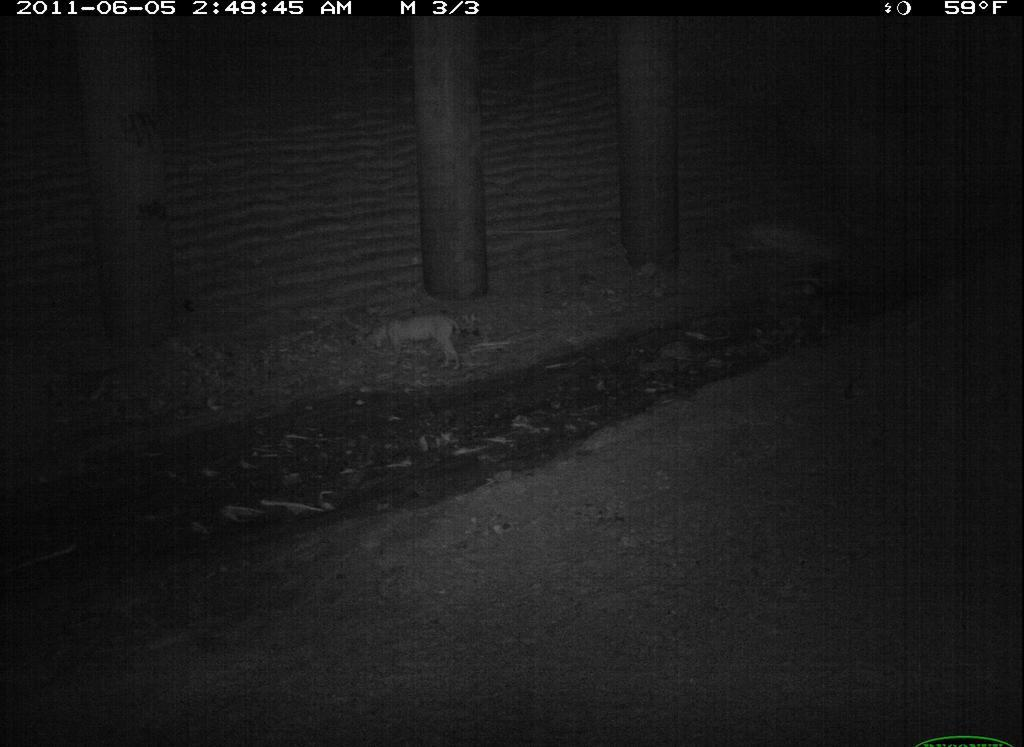bobcat: (731, 618, 937, 747)
